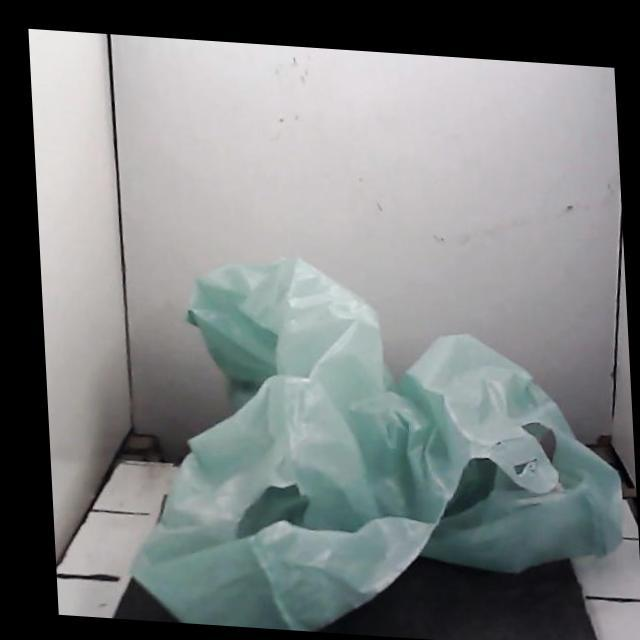plastico: (134, 259, 621, 629)
